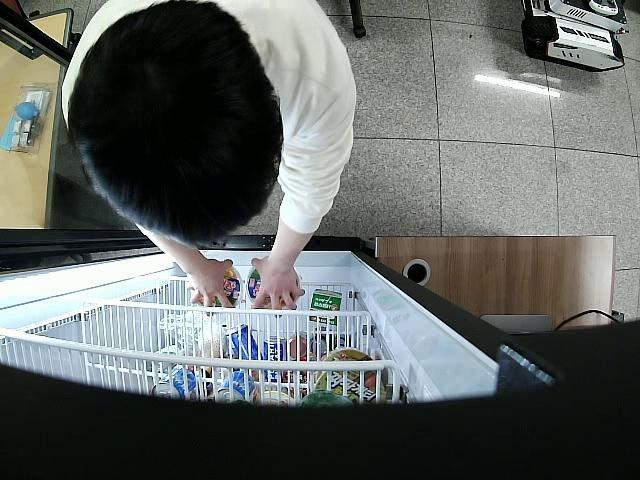09_yukGaeJang: (247, 266, 301, 313), (198, 268, 244, 314)
